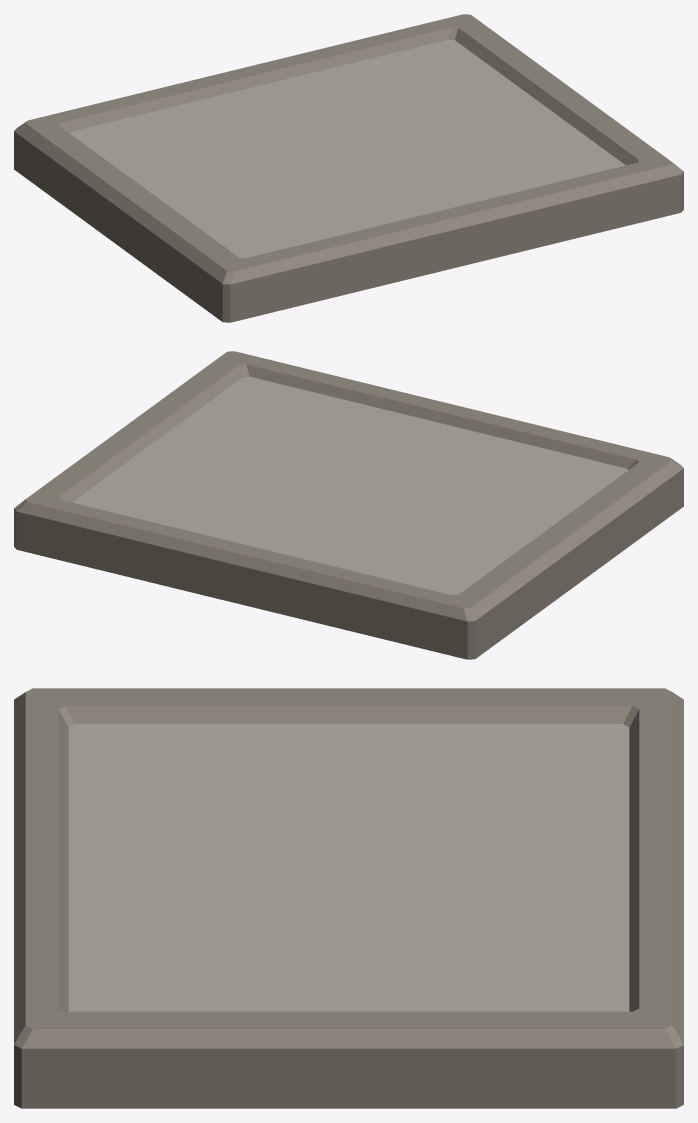
File: RoofAdd_1_A.glb
3 views of the same model, one above another, from view 1: azimuth 30°, elevation 25°; view 2: azimuth 150°, elevation 25°; view 3: azimuth 270°, elevation 25° (orthographic). The views are drawn at different scales.
Parts seen in each view (by area): view 1: RoofAdd_1_A; view 2: RoofAdd_1_A; view 3: RoofAdd_1_A.
Part boxes in pixels (<box>): RoofAdd_1_A: <box>14,14,683,322</box>; RoofAdd_1_A: <box>14,351,683,659</box>; RoofAdd_1_A: <box>14,688,683,1108</box>.
Bounding box in the file's own units: 1.26 × 0.1227 × 1.01.
1 material, 1 textured.
